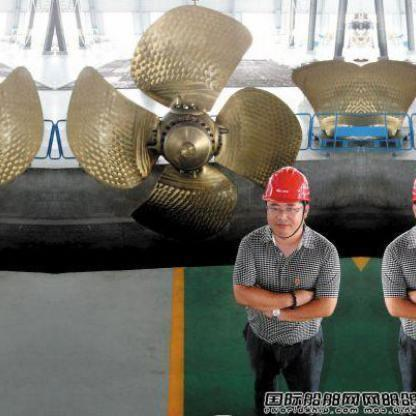helmet: (259, 164, 314, 208)
